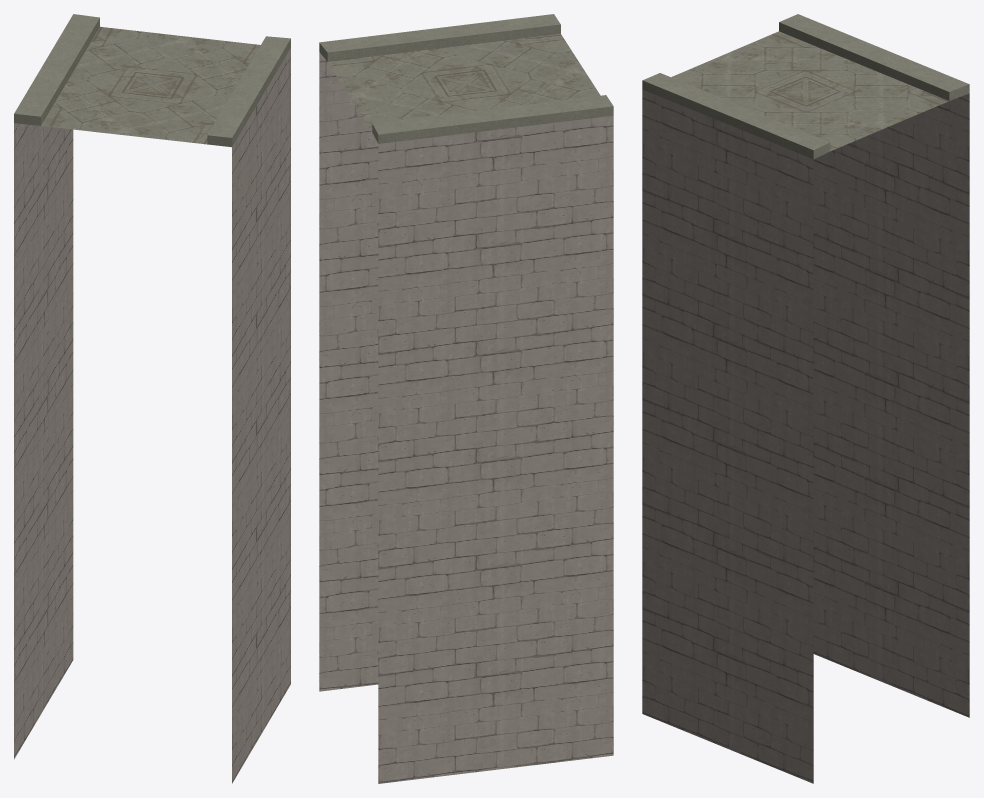
File: AD_Ground_N_01.fbx
3 renders of one model, left to right at view 1: azimuth 30°, elevation 25°; view 2: azimuth 150°, elevation 25°; view 3: azimuth 270°, elevation 25°, orthographic. The views are drawn at different scales.
Visible parts, largest first — view 1: AD_Ground_N_01; view 2: AD_Ground_N_01; view 3: AD_Ground_N_01.
Boxes of the visible parts, <box> form: AD_Ground_N_01: <box>14,14,290,783</box>; AD_Ground_N_01: <box>319,14,613,783</box>; AD_Ground_N_01: <box>642,14,969,783</box>.
Size of the model in its own units: 2797 by 6060 by 2835.
3 materials, 3 textured.
